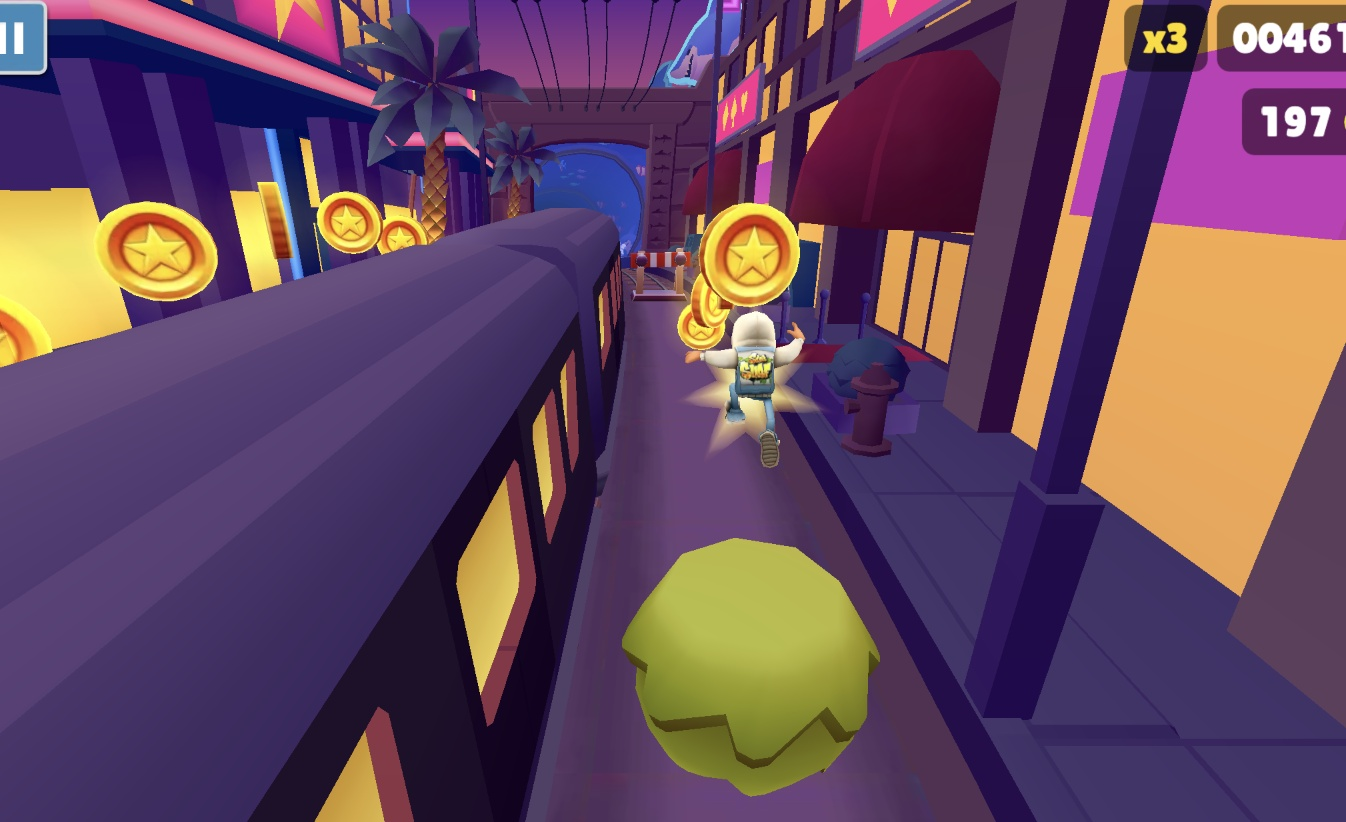bush: (620, 535, 883, 800)
ground_barrier: (628, 251, 694, 303)
train: (0, 206, 627, 822)
